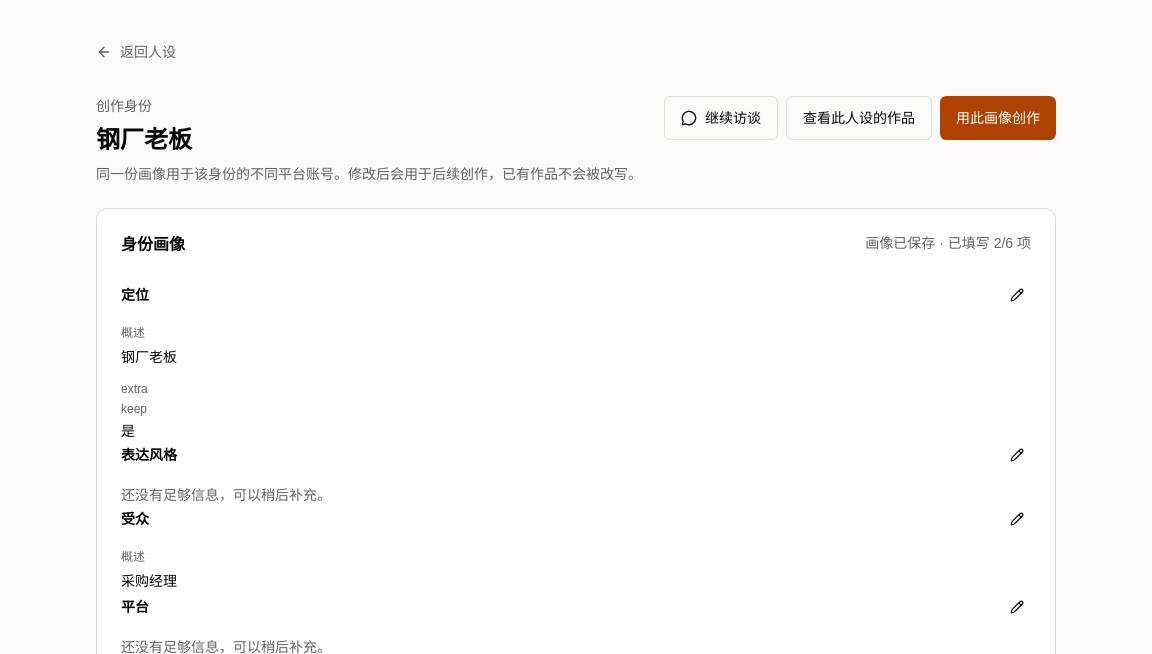
Test: portrait detail › edits the original portrait with optimistic revision checks and preserves structured fields
Click the button named "修改定位".
click(1017, 295)  # box x1=1003 y1=281 x2=1031 y2=309
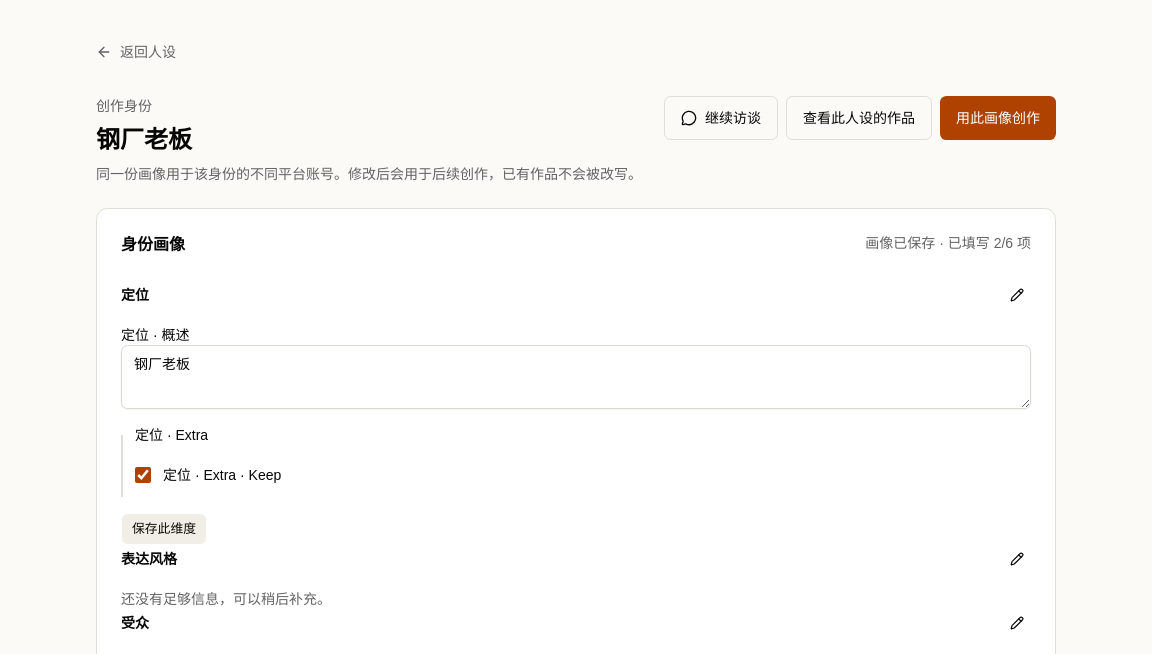
Replace the text in the text box labelled "定位 · 概述" with "精密钢材老板" at x=576, y=377, box x1=121 y1=345 x2=1031 y2=409
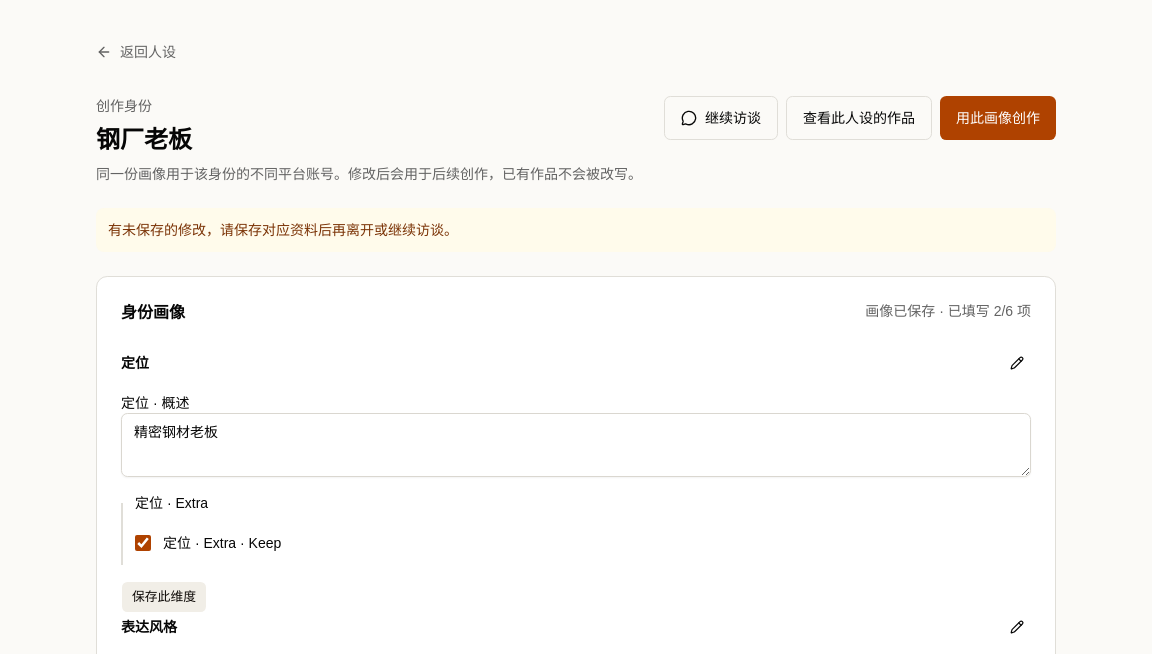
Click the button "保存此维度".
click(164, 597)  # box x1=121 y1=581 x2=207 y2=613
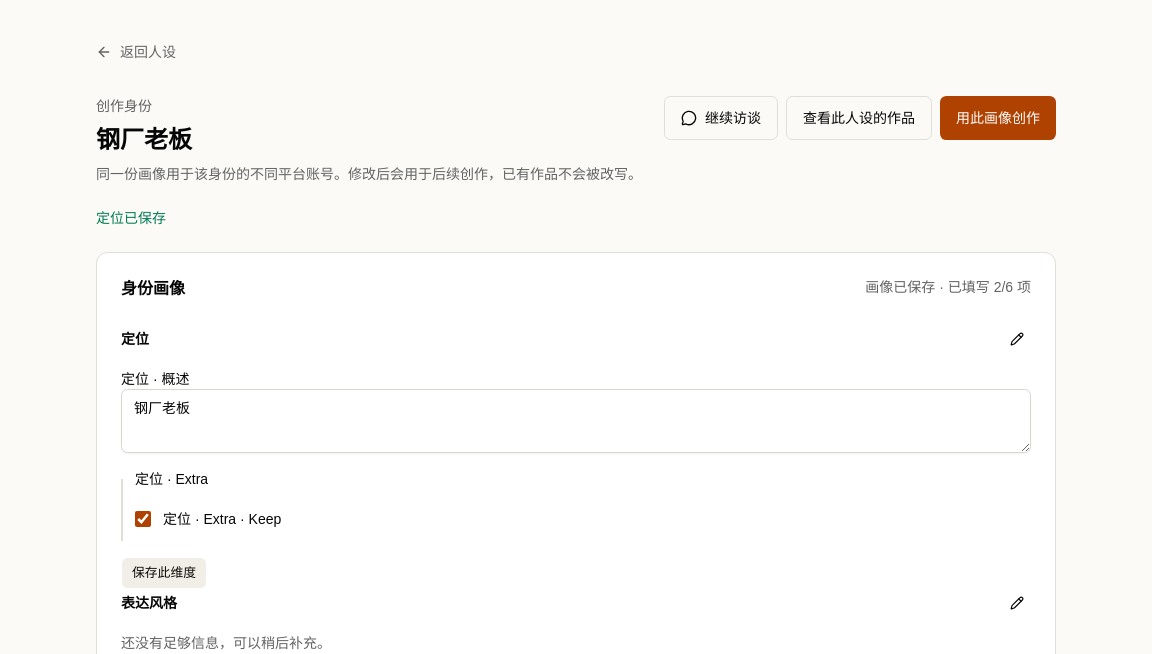
Expected: the text "定位已保存" is shown, x1=96 y1=210 x2=166 y2=226
